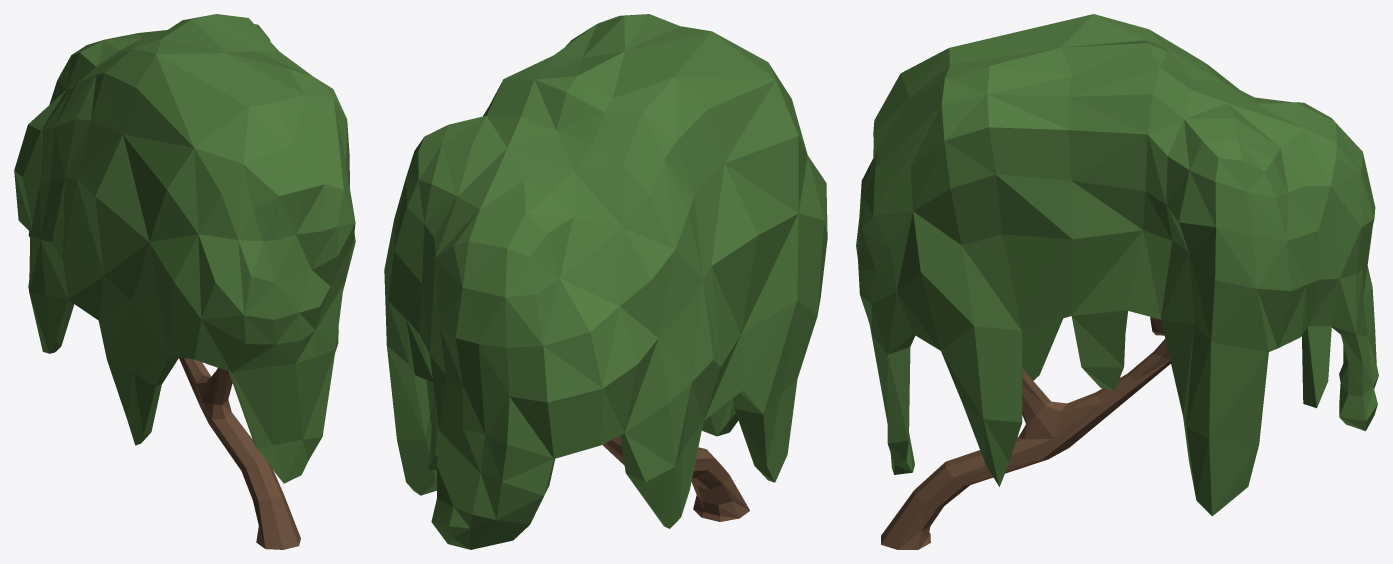
The model's file is Willow_2.glb.
The picture shows the model from 3 angles, left to right: view 1: azimuth 30°, elevation 25°; view 2: azimuth 150°, elevation 25°; view 3: azimuth 270°, elevation 25°; orthographic projection. The views are drawn at different scales.
Visible parts, largest first — view 1: Willow_2; view 2: Willow_2; view 3: Willow_2.
Part boxes in pixels (box(x1,y1,x2,y2)): Willow_2: box(14, 14, 355, 549); Willow_2: box(384, 14, 827, 549); Willow_2: box(856, 14, 1378, 549).
Size of the model in its own units: 1.95 by 3.32 by 3.11.
